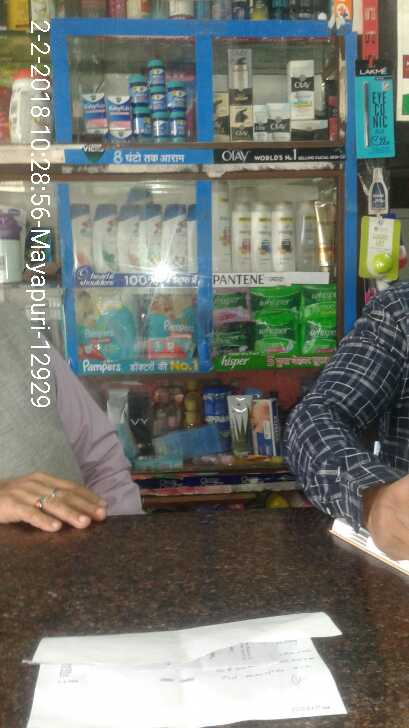vicks: (80, 54, 187, 143)
